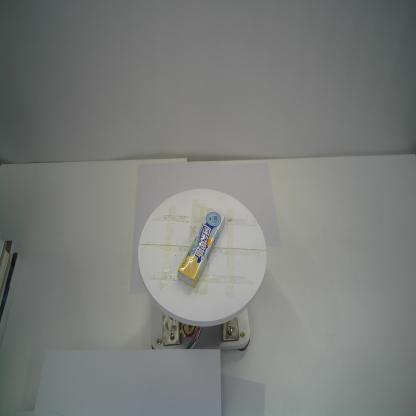Candy: (176, 208, 226, 288)
